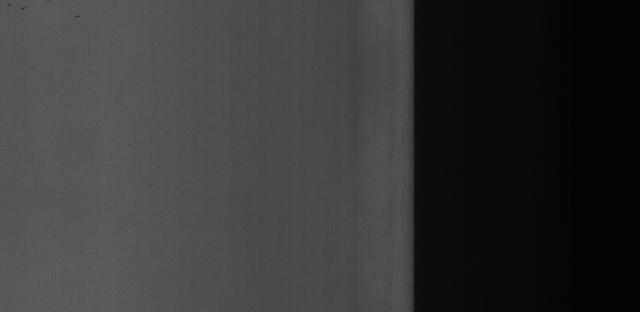inclusion: (137, 162, 164, 189), (68, 10, 88, 28), (20, 2, 35, 14)
